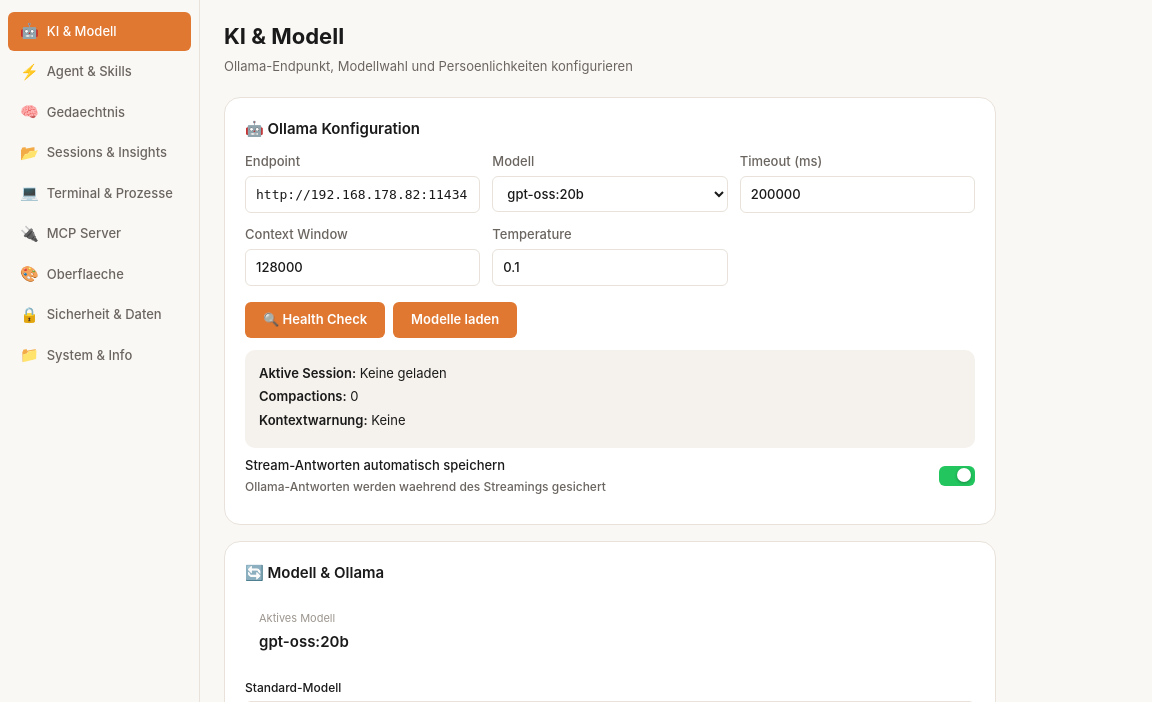
SettingsView › switches to System & Info and shows version info
This screenshot has width=1152, height=702.
What coordinates should you click on to do the following:
click the text "System & Info"
I would click on:
 (90, 355)
Its box is [47,346,132,365].
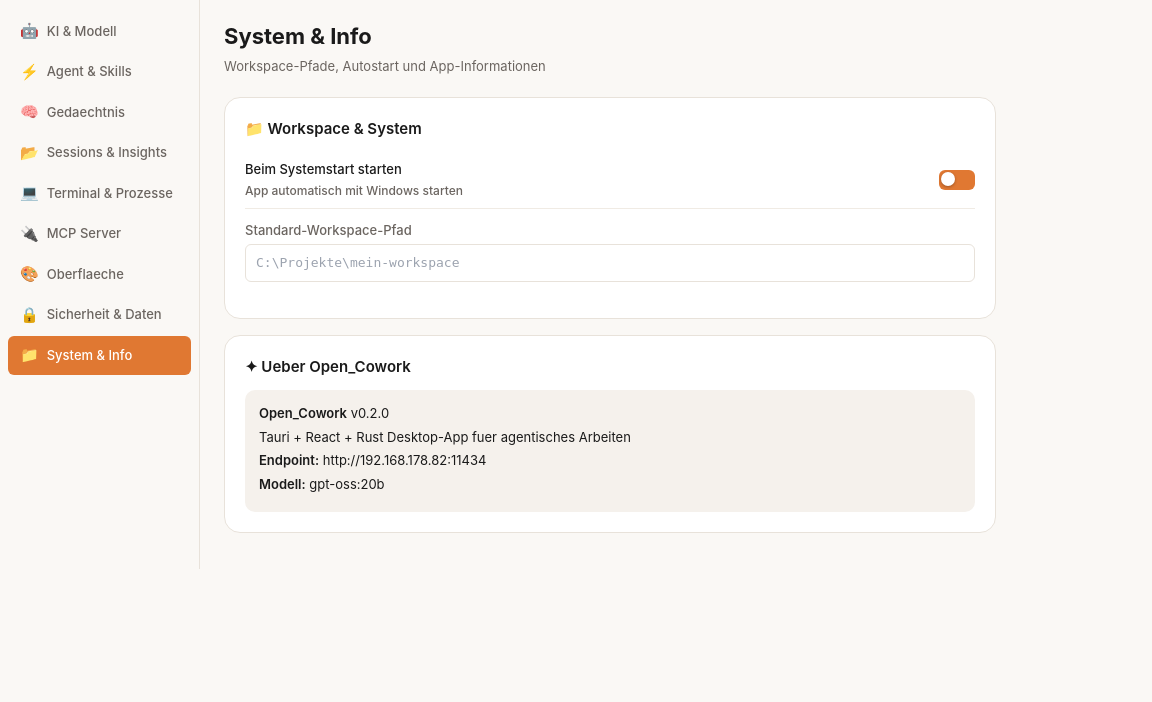
Expected: the heading "System & Info" is shown, [224,23,372,49]
Expected: the text "Open_Cowork v0.2.0" is shown, [259,405,389,421]
